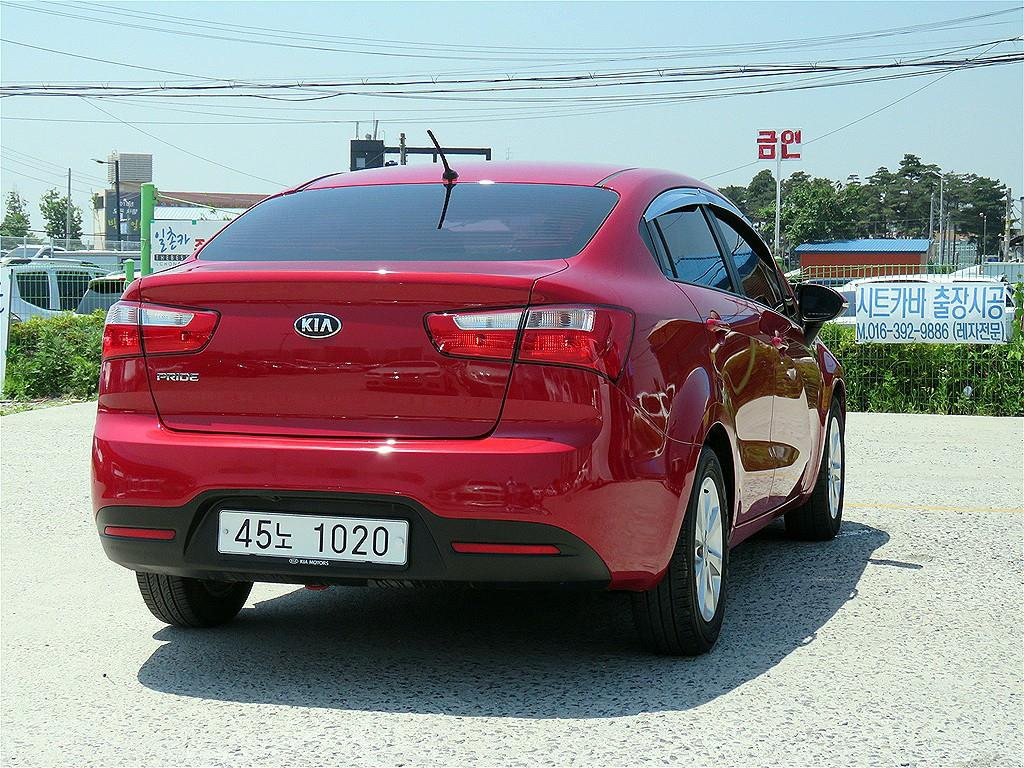plate: (219, 511, 408, 565)
